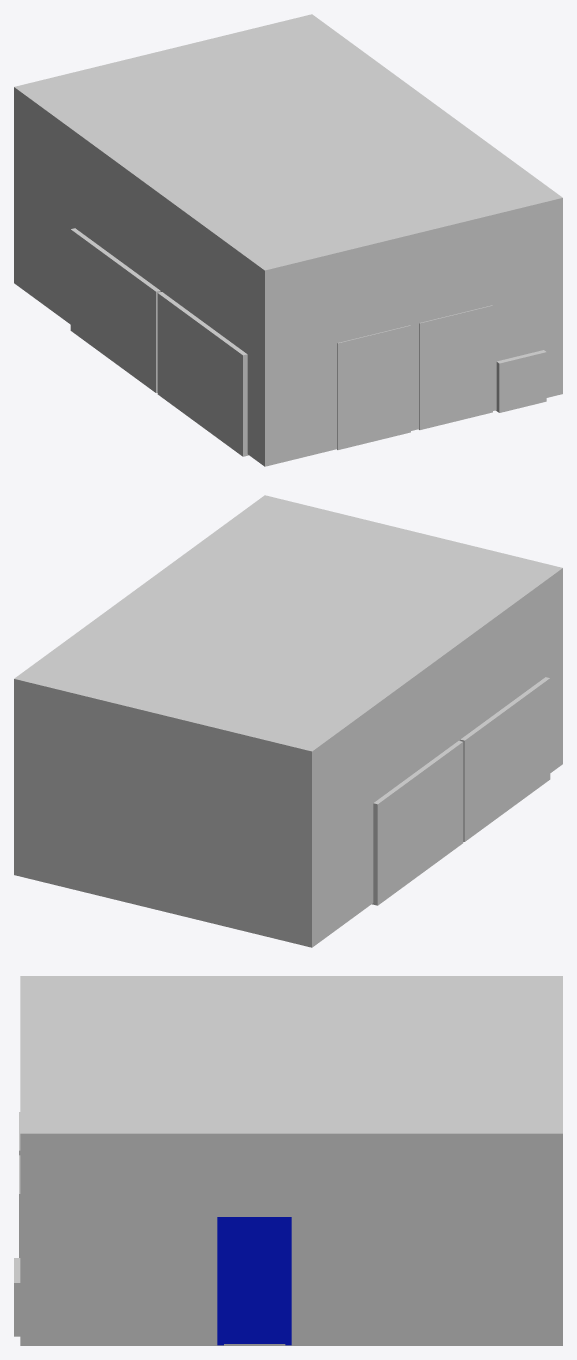
Rendered from MapCarochitos_ClubRoomV2.fbx.
3 renders of one model, top to bottom at view 1: azimuth 30°, elevation 25°; view 2: azimuth 150°, elevation 25°; view 3: azimuth 270°, elevation 25°, orthographic. The views are drawn at different scales.
Parts seen in each view (by area): view 1: Cube.695, Cube.927, Cube.914, Cube.729, Cube.720, Cube.760; view 2: Cube.695, Cube.914, Cube.927; view 3: Cube.695, Cube.453, Cube.760.
Part boxes in pixels (x1=…): Cube.695: x1=14, y1=14, x2=562, y2=466; Cube.927: x1=157, y1=292, x2=248, y2=456; Cube.914: x1=70, y1=228, x2=160, y2=392; Cube.729: x1=419, y1=305, x2=492, y2=429; Cube.720: x1=337, y1=325, x2=410, y2=449; Cube.760: x1=496, y1=350, x2=546, y2=412; Cube.695: x1=14, y1=495, x2=562, y2=947; Cube.914: x1=372, y1=741, x2=463, y2=905; Cube.927: x1=460, y1=677, x2=550, y2=841; Cube.695: x1=20, y1=976, x2=562, y2=1345; Cube.453: x1=217, y1=1217, x2=291, y2=1345; Cube.760: x1=14, y1=1258, x2=20, y2=1336.
Size of the model in its own units: 625 by 390 by 907.
